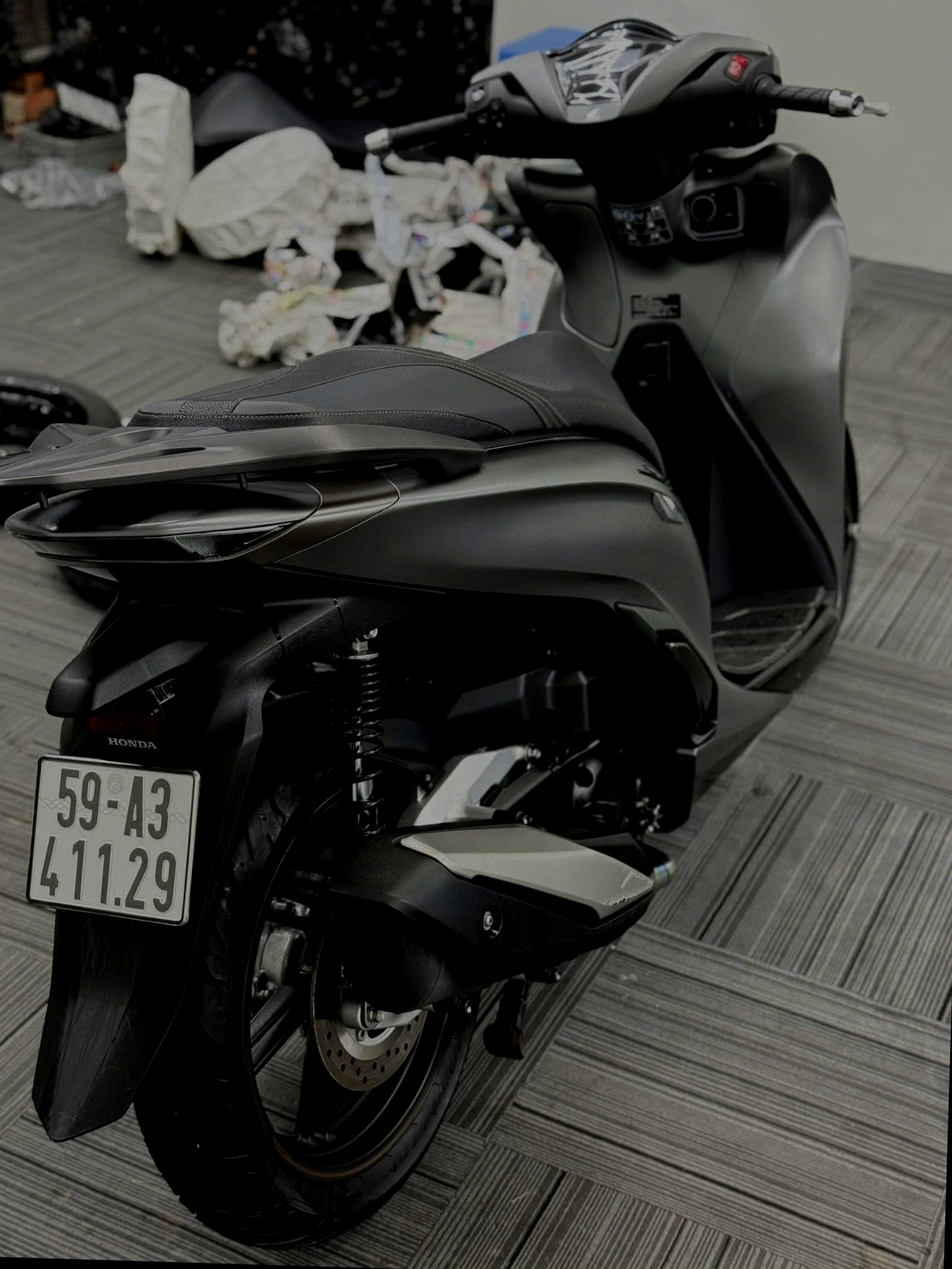Bien-so: (26, 752, 208, 927)
